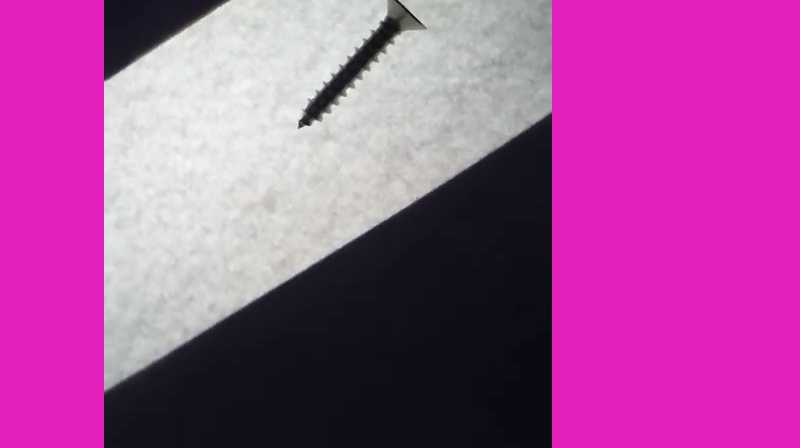S001: (292, 0, 429, 133)
